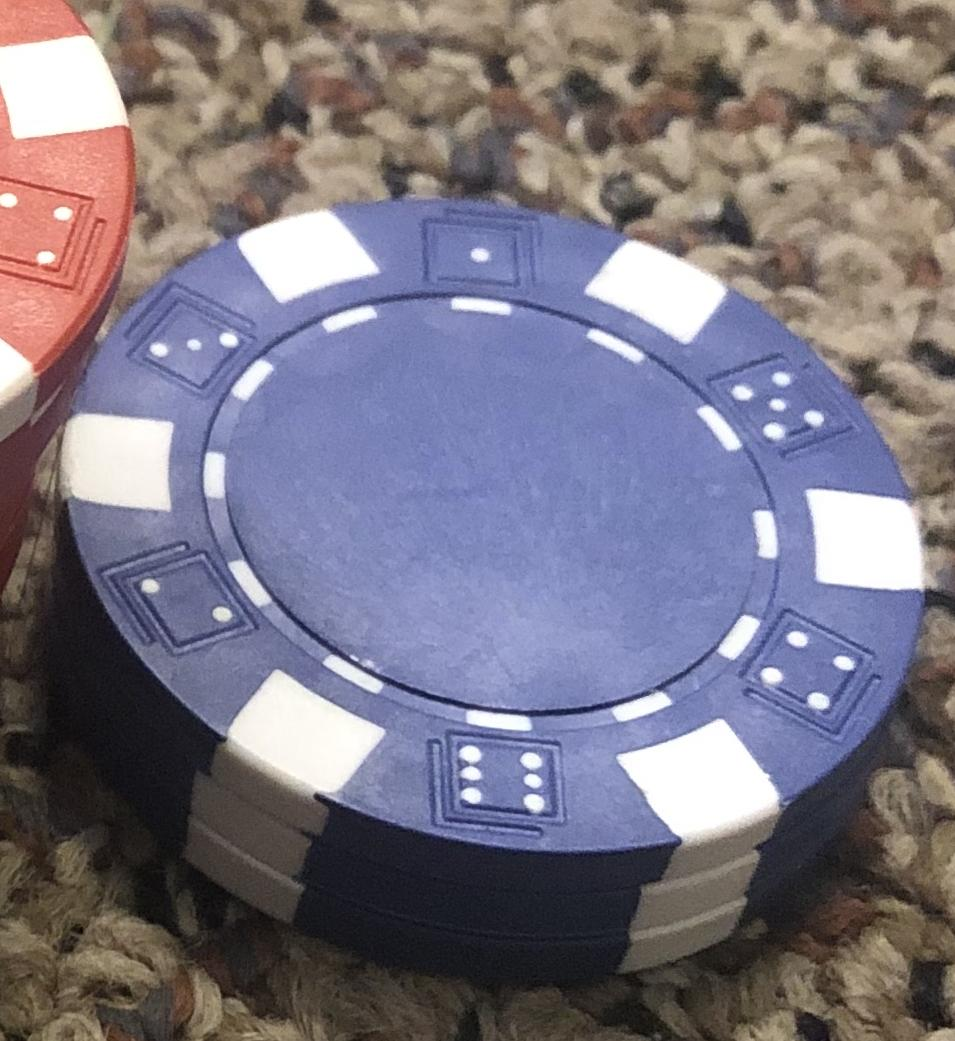Chip: (1, 1, 955, 1041)
